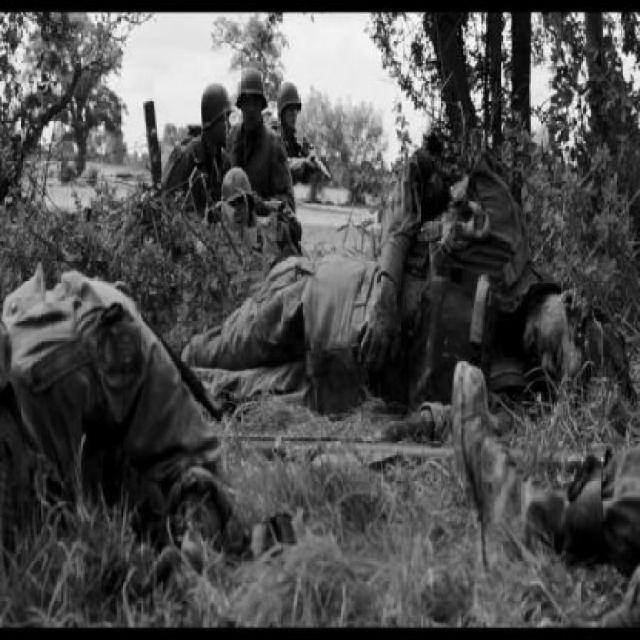non-violence: (192, 123, 594, 412), (231, 69, 297, 207), (162, 83, 231, 210), (222, 173, 301, 256), (280, 82, 331, 184)
weapon: (296, 136, 329, 184)
